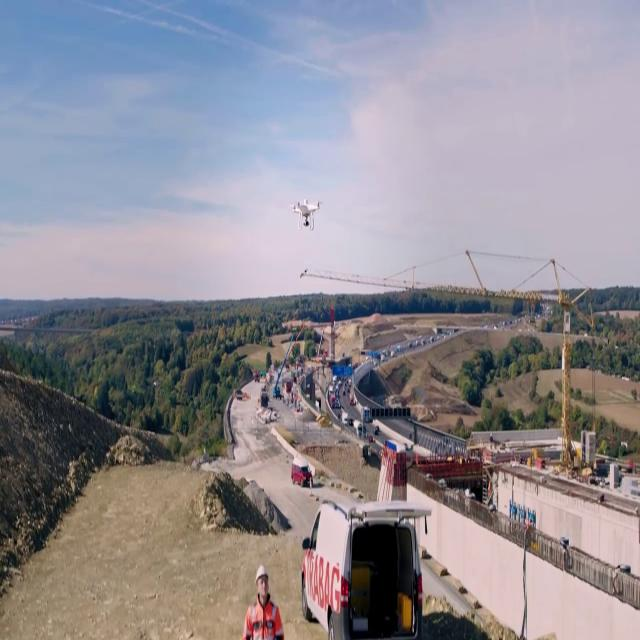drone: (287, 194, 323, 233)
